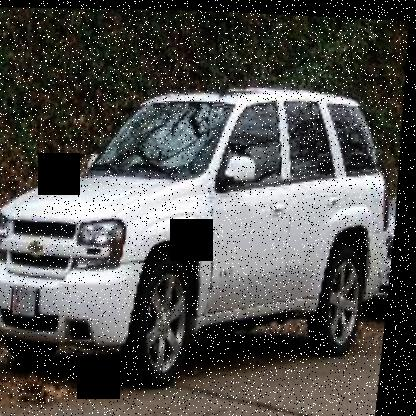not_emergency: (0, 53, 406, 402)
